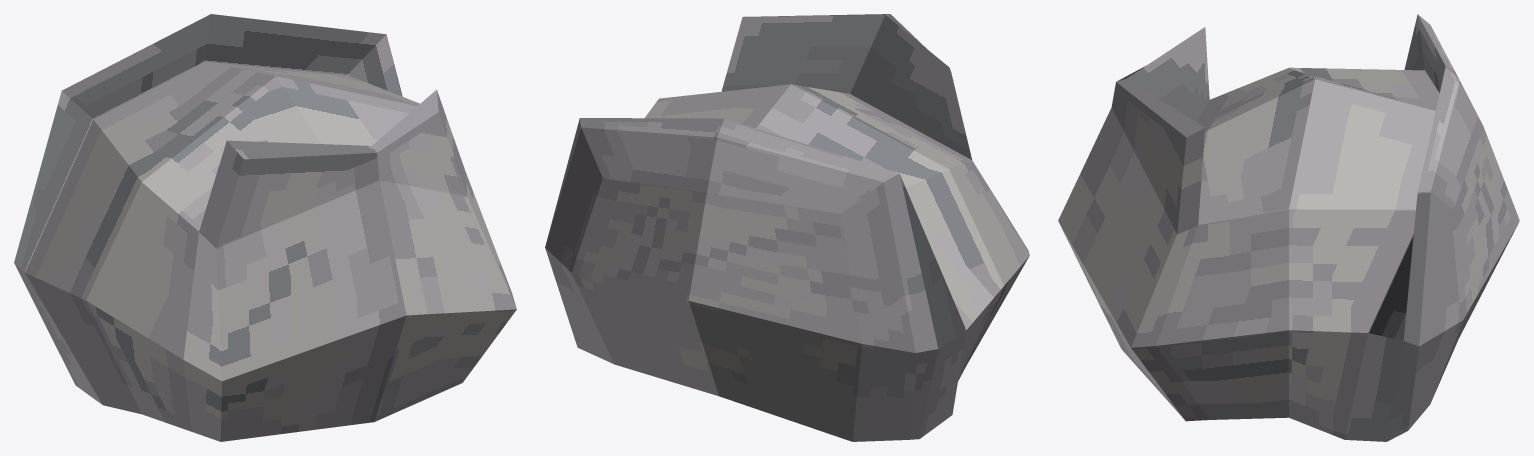
The model's file is trash_paperModel.fbx.
3 views of the same model, side by side, from view 1: azimuth 30°, elevation 25°; view 2: azimuth 150°, elevation 25°; view 3: azimuth 270°, elevation 25° (orthographic).
Parts seen in each view (by area): view 1: paper1; view 2: paper1; view 3: paper1.
Boxes of the visible parts, x1,y1,x2,y2 form: paper1: (14,14,516,441); paper1: (545,14,1029,441); paper1: (1058,14,1519,441).
Size of the model in its own units: 170 by 122 by 168.
1 material, 1 textured.
